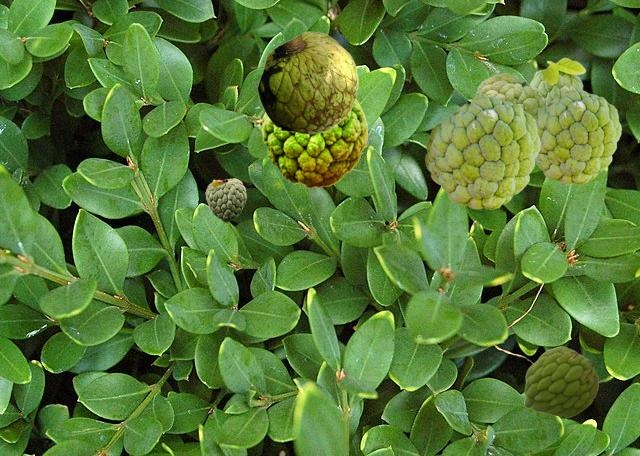atis: (425, 96, 539, 208), (257, 31, 357, 133), (261, 97, 366, 187), (532, 90, 620, 183), (524, 346, 597, 416), (474, 73, 544, 113), (529, 57, 585, 104), (205, 178, 245, 221)
